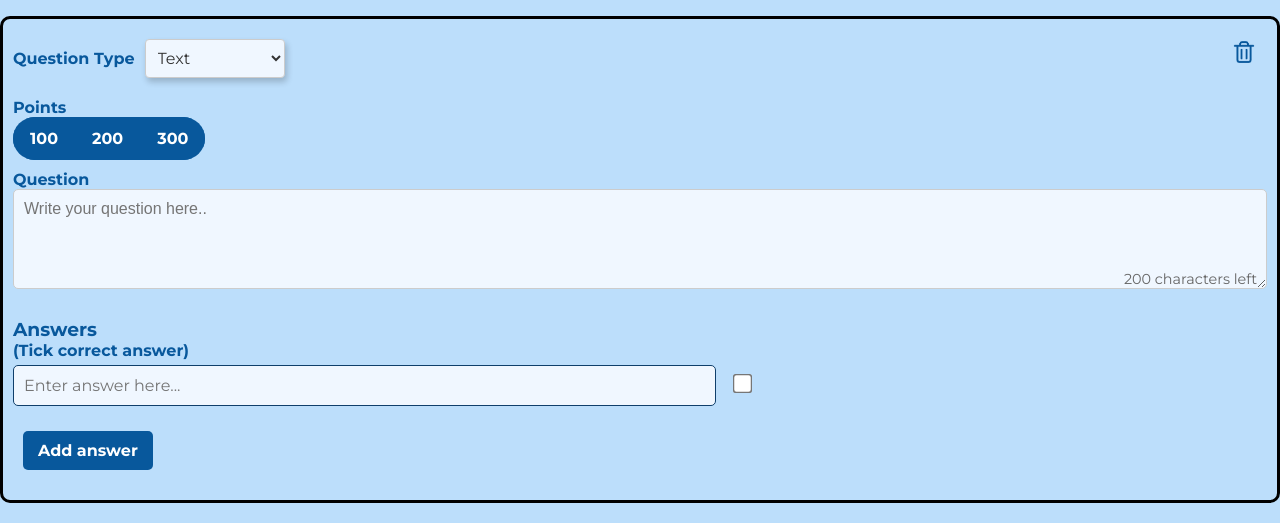
Test: CreateQuestion › Interactions › allows adding a text answer for TEXT question type
Click the button "Add answer" at (88, 450), box [23, 431, 153, 470]
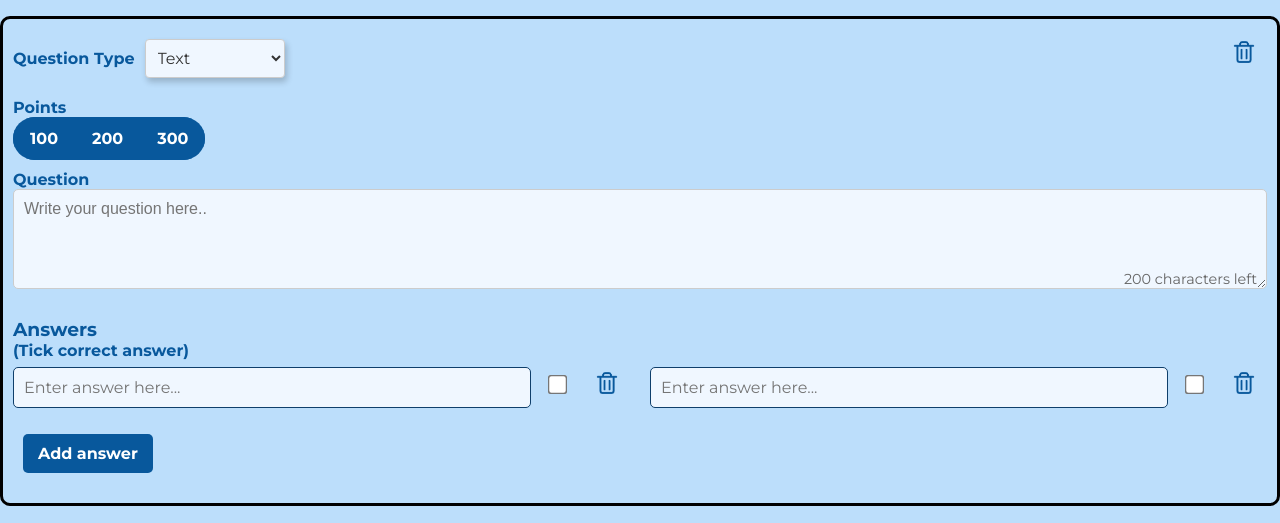
expect the number of "AnswerCard" components is 2: met, box [13, 360, 630, 409]; [650, 360, 1267, 409]
